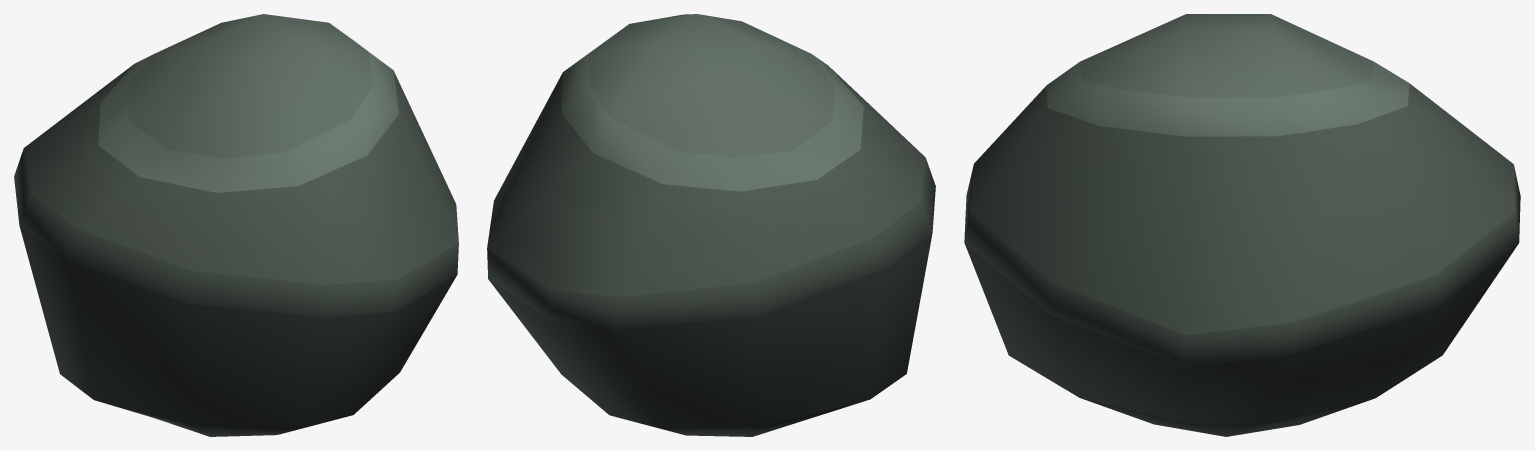
Rendered from stone_6.fbx.
3 views of the same model, side by side, from view 1: azimuth 30°, elevation 25°; view 2: azimuth 150°, elevation 25°; view 3: azimuth 270°, elevation 25° (orthographic). The views are drawn at different scales.
Visible parts, largest first — view 1: stone_6; view 2: stone_6; view 3: stone_6.
Boxes of the visible parts, box(x1,y1,x2,y2) form: stone_6: box(14, 14, 458, 436); stone_6: box(487, 14, 935, 436); stone_6: box(964, 14, 1520, 436).
Size of the model in its own units: 57.57 by 50.51 by 64.42.
Materials: 1 (1 with a texture image).
